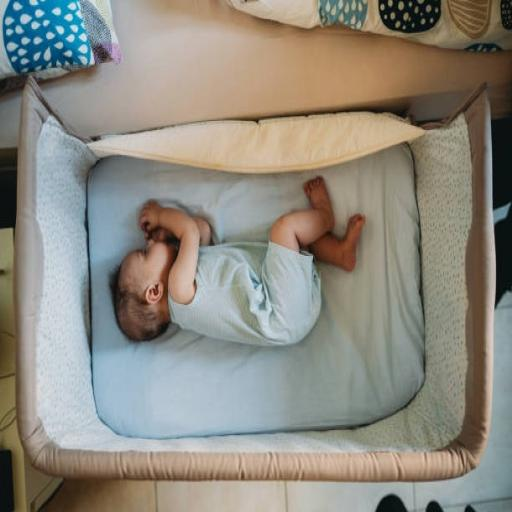baby: (114, 177, 365, 344)
crib: (15, 81, 494, 480)
